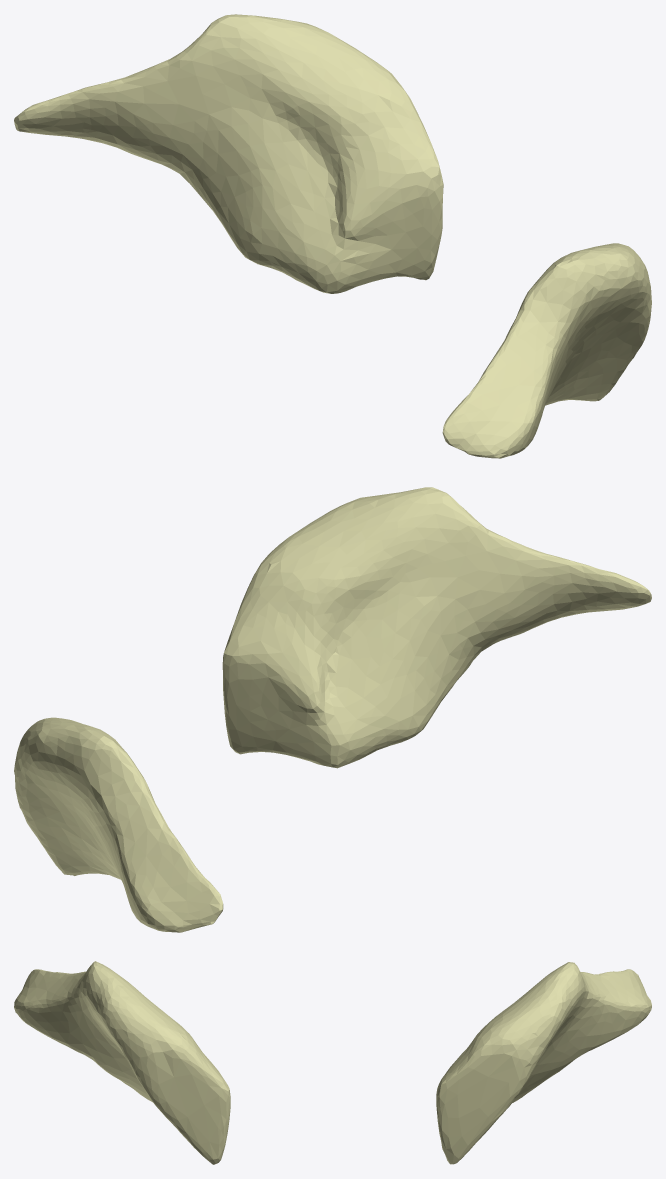
3 renders of one model, top to bottom at view 1: azimuth 30°, elevation 25°; view 2: azimuth 150°, elevation 25°; view 3: azimuth 270°, elevation 25°, orthographic. The views are drawn at different scales.
Parts seen in each view (by area): view 1: 1033.obj; view 2: 1033.obj; view 3: 1033.obj.
Boxes of the visible parts, x1,y1,x2,y2 form: 1033.obj: (14,14,651,458); 1033.obj: (14,487,651,932); 1033.obj: (14,961,651,1164).
Bounding box in the file's own units: 2390 × 1795 × 6396.
